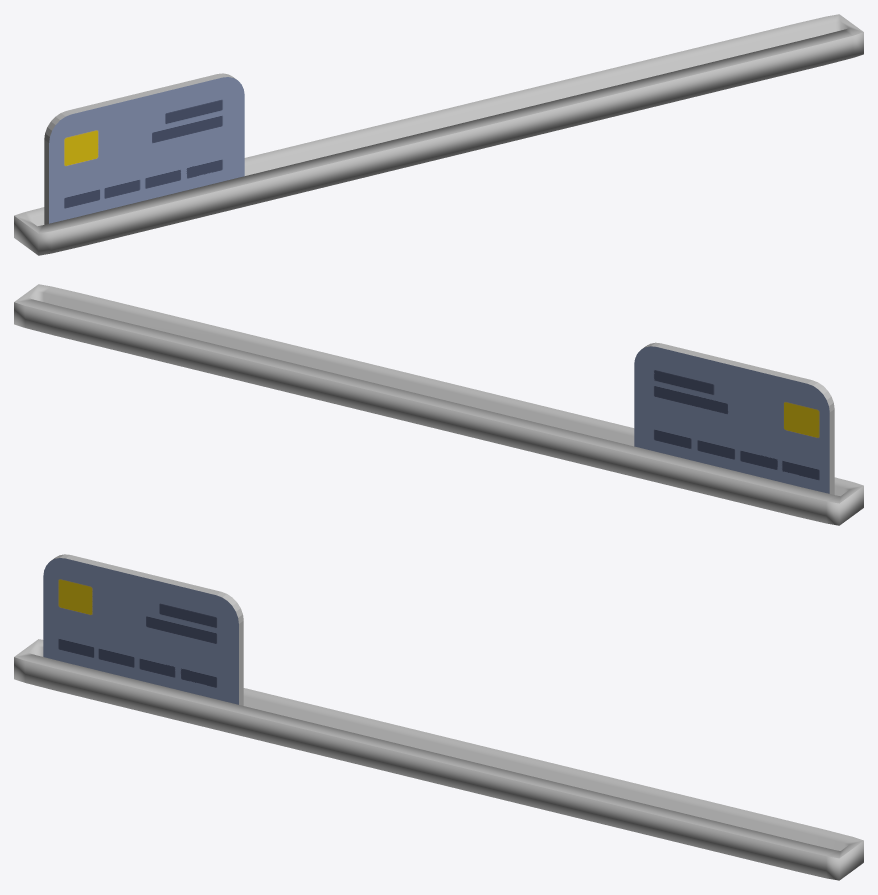
File: Card_R.fbx
The picture shows the model from 3 angles, top to bottom: view 1: azimuth 30°, elevation 25°; view 2: azimuth 150°, elevation 25°; view 3: azimuth 330°, elevation 25°; orthographic projection.
Visible parts, largest first — view 1: obstacle3, obstacle3.001; view 2: obstacle3, obstacle3.001; view 3: obstacle3, obstacle3.001.
Part boxes in pixels (<box>): obstacle3: <box>14,14,863,255</box>; obstacle3.001: <box>44,73,244,224</box>; obstacle3: <box>14,284,863,525</box>; obstacle3.001: <box>634,342,834,494</box>; obstacle3: <box>14,639,863,880</box>; obstacle3.001: <box>43,554,243,705</box>.
Size of the model in its own units: 1233 by 177 by 70.52.
Materials: 2 (1 with a texture image).
